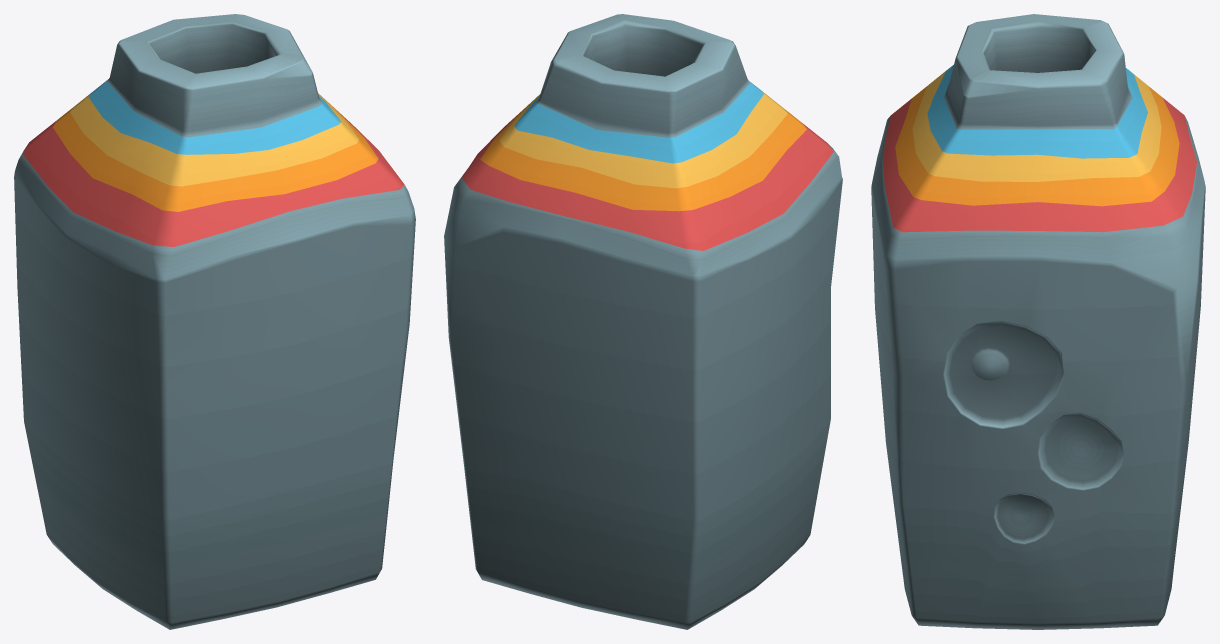
File: CharSkyKid_Prop_JarBubbleMachine.glb
The picture shows the model from 3 angles, left to right: view 1: azimuth 30°, elevation 25°; view 2: azimuth 150°, elevation 25°; view 3: azimuth 270°, elevation 25°; orthographic projection. The views are drawn at different scales.
Visible parts, largest first — view 1: CharSkyKid_Prop_JarBubbleMachine; view 2: CharSkyKid_Prop_JarBubbleMachine; view 3: CharSkyKid_Prop_JarBubbleMachine.
Part boxes in pixels (x1,y1,x2,y2): CharSkyKid_Prop_JarBubbleMachine: (14,14,415,629); CharSkyKid_Prop_JarBubbleMachine: (444,14,842,629); CharSkyKid_Prop_JarBubbleMachine: (871,14,1205,629).
Size of the model in its own units: 0.4136 by 0.6938 by 0.3987.
Materials: 1 (1 with a texture image).
